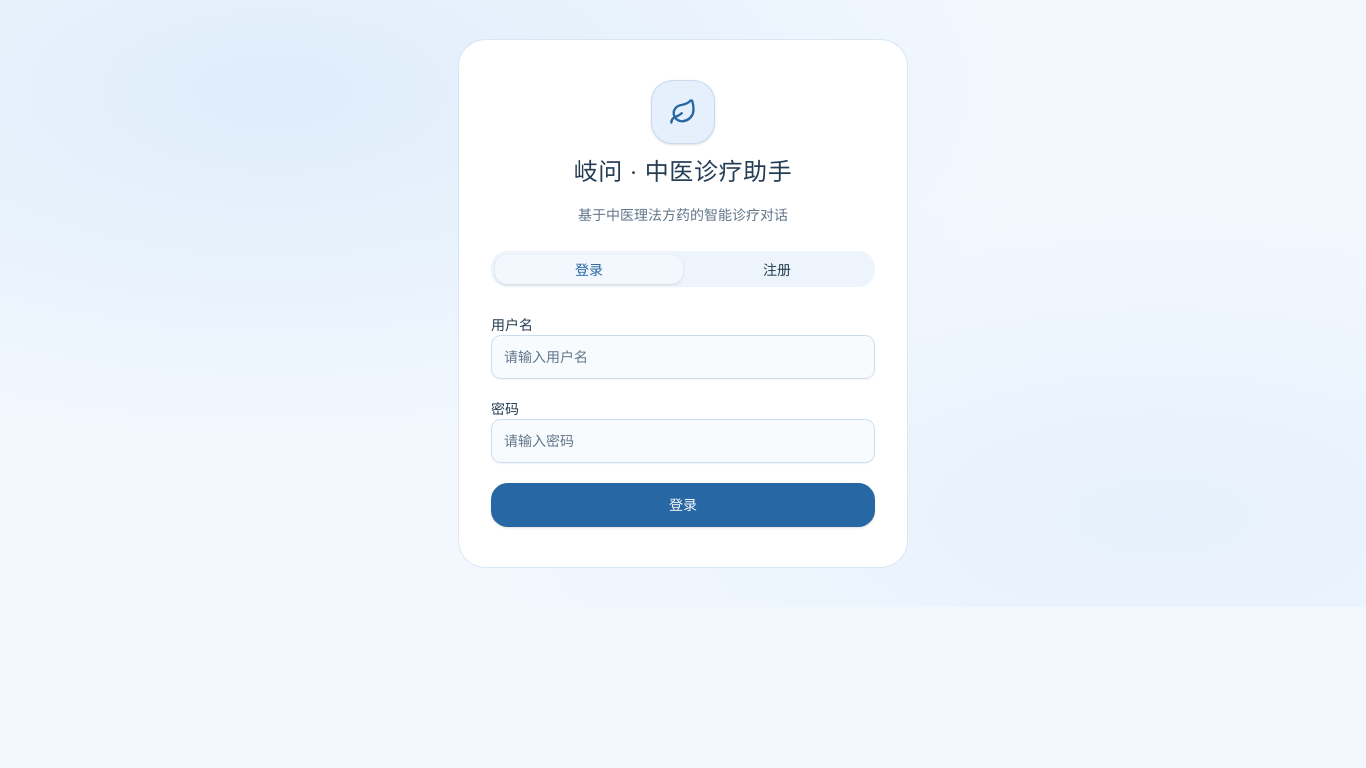
Test: login failure feedback › keeps a visible error when the network request fails
In the field labelled "用户名": (683, 357) 491,335 -> 875,379, type "legacy_test"
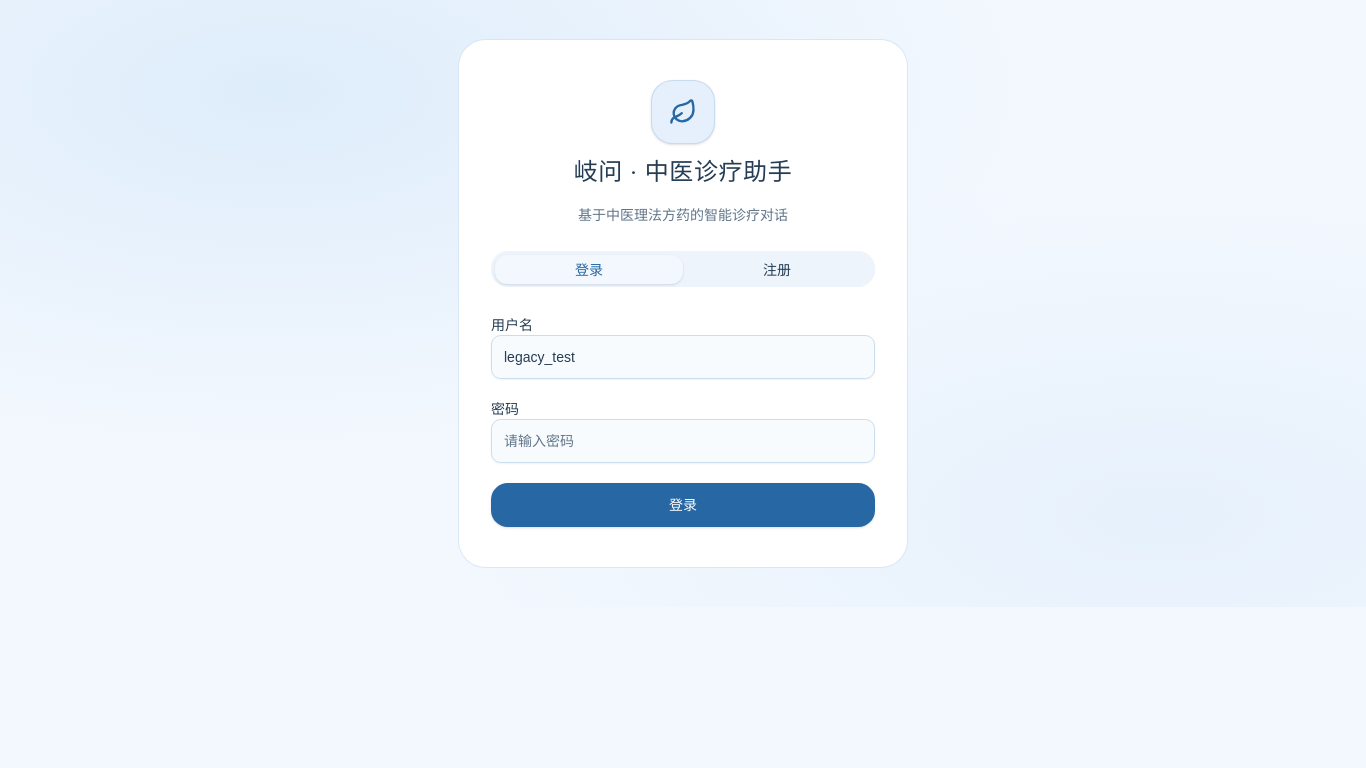
In the password field labelled "密码": (683, 441) 491,419 -> 875,463, type "wrong-password"
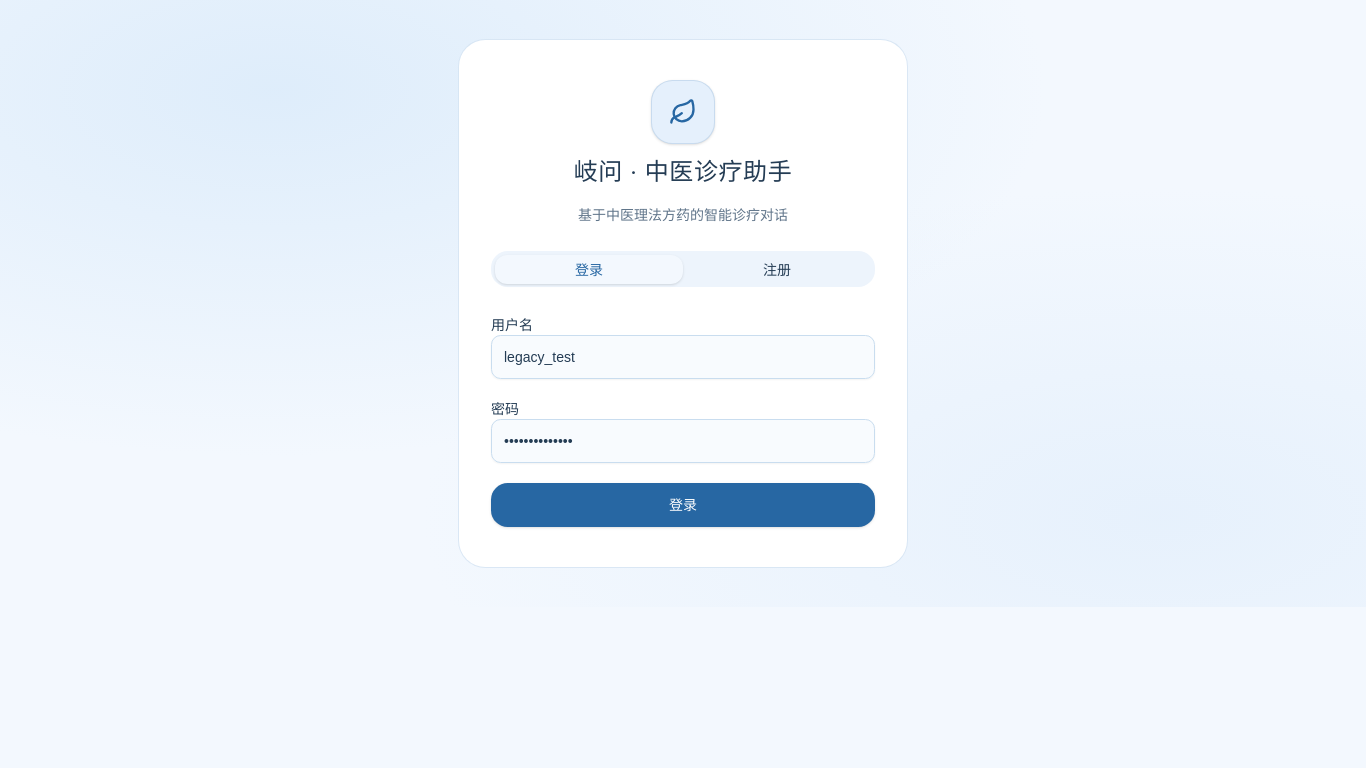
Click the button "登录": (683, 505) 491,483 -> 875,527
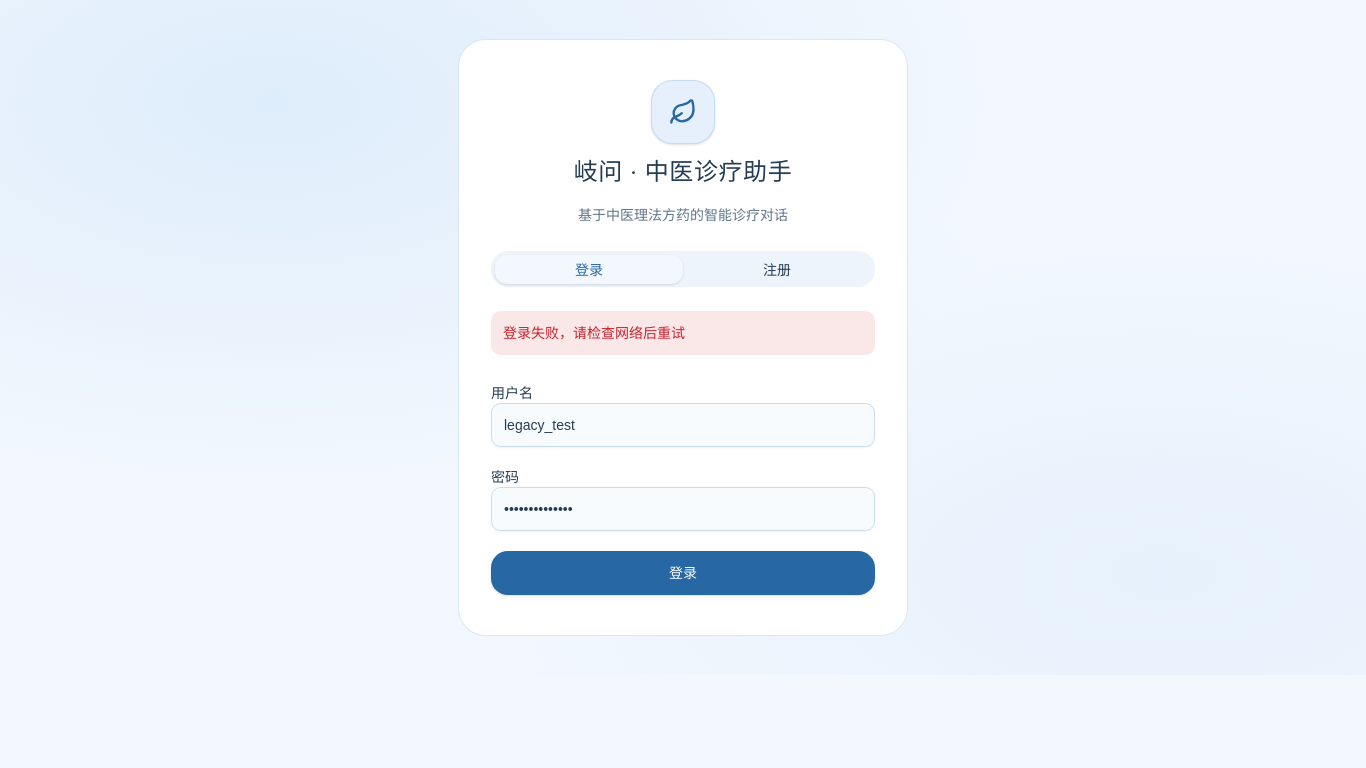
Expected: the message reads "登录失败，请检查网络后重试", 503,325 -> 685,341
